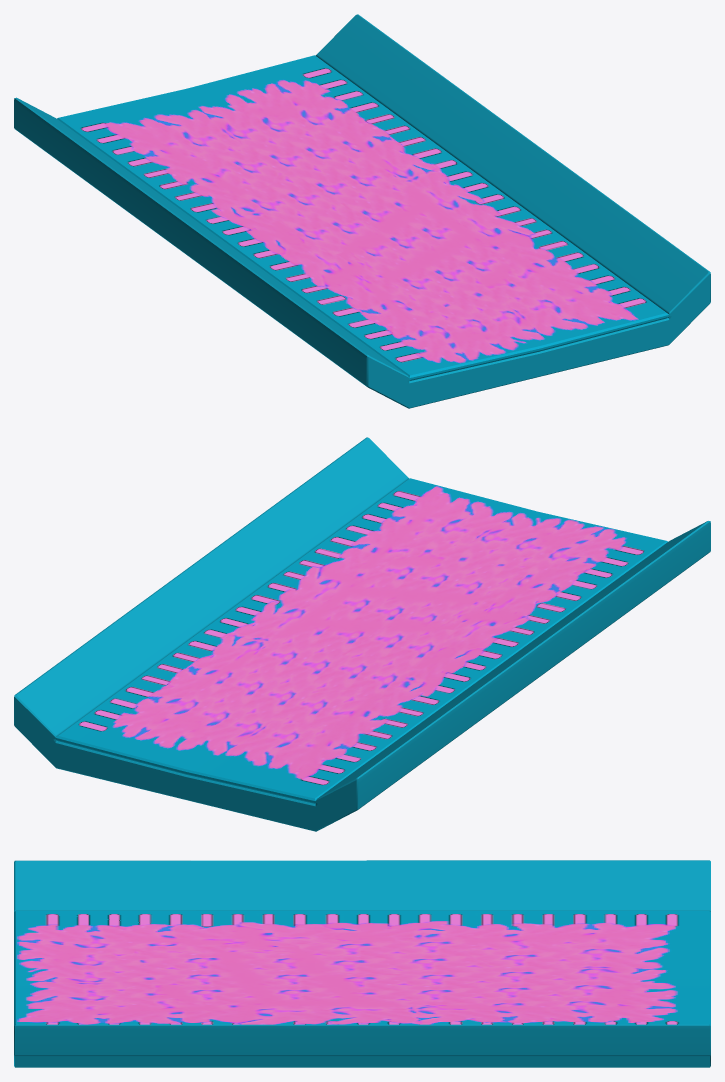
Rendered from PLF0110047.fbx.
The picture shows the model from 3 angles, top to bottom: view 1: azimuth 30°, elevation 25°; view 2: azimuth 150°, elevation 25°; view 3: azimuth 270°, elevation 25°; orthographic projection.
Parts seen in each view (by area): view 1: smPLF0110047; view 2: smPLF0110047; view 3: smPLF0110047.
Part boxes in pixels (bbox=[...]): smPLF0110047: bbox=[14, 14, 710, 408]; smPLF0110047: bbox=[14, 437, 710, 831]; smPLF0110047: bbox=[14, 860, 710, 1067].
Bounding box in the file's own units: 823 × 144 × 1464.
1 material, 1 textured.
